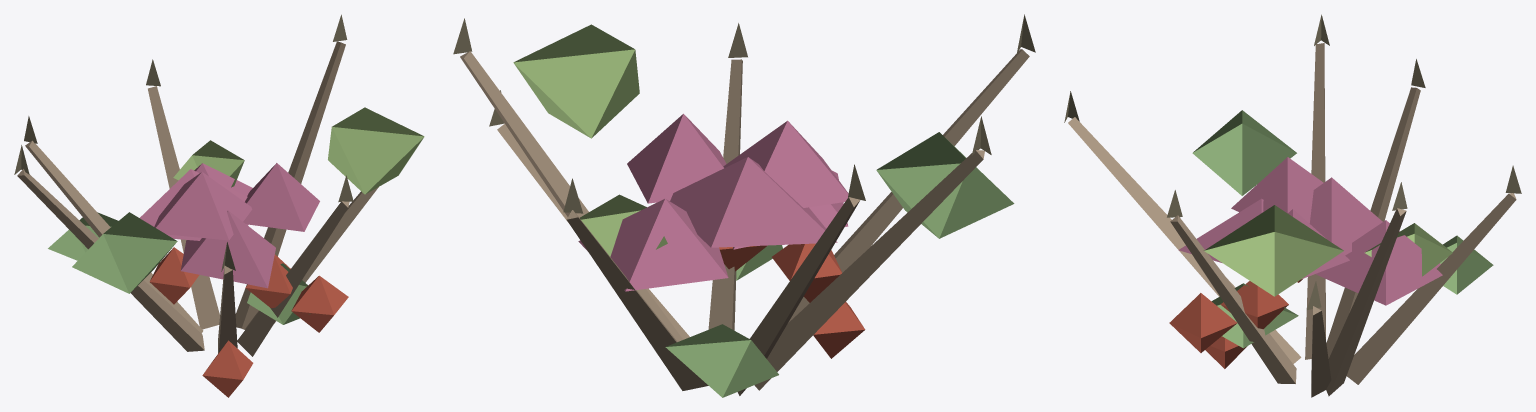
The model's file is shrub.temp.bramble__bloom.glb.
3 views of the same model, side by side, from view 1: azimuth 30°, elevation 25°; view 2: azimuth 150°, elevation 25°; view 3: azimuth 270°, elevation 25° (orthographic). The views are drawn at different scales.
Visible parts, largest first — view 1: shrub.temp.bramble__bloom; view 2: shrub.temp.bramble__bloom; view 3: shrub.temp.bramble__bloom.
Boxes of the visible parts, x1,y1,x2,y2 form: shrub.temp.bramble__bloom: [14, 14, 424, 397]; shrub.temp.bramble__bloom: [453, 14, 1035, 397]; shrub.temp.bramble__bloom: [1064, 14, 1521, 397].
Size of the model in its own units: 2.59 by 1.75 by 2.52.
